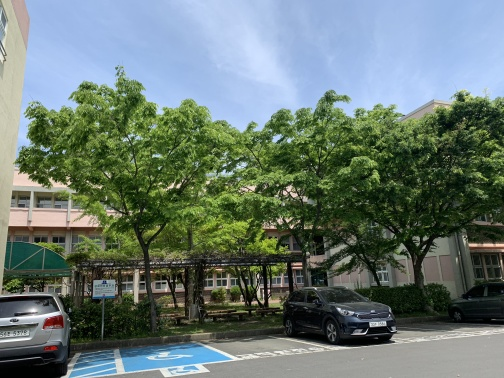College Of Education: (7, 144, 351, 299), (366, 99, 504, 292)
